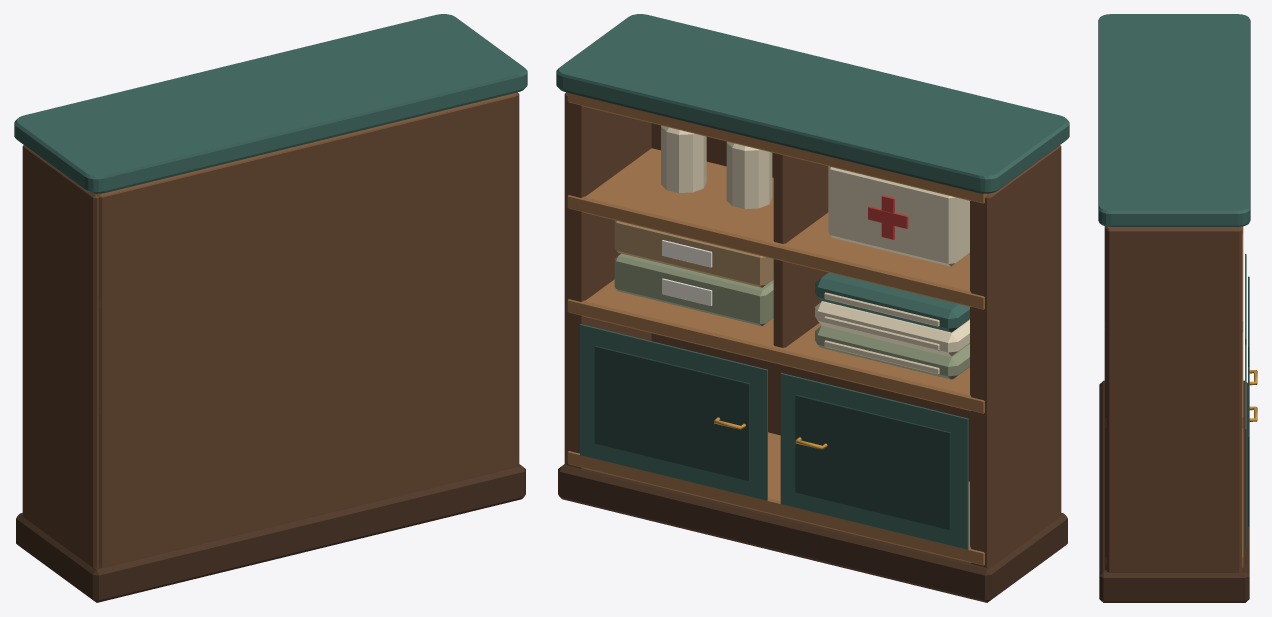
File: SU_07_Supply_Cabinet.fbx
3 renders of one model, left to right at view 1: azimuth 30°, elevation 25°; view 2: azimuth 150°, elevation 25°; view 3: azimuth 270°, elevation 25°, orthographic. The views are drawn at different scales.
Visible parts, largest first — view 1: SU_07_Supply_Cabinet; view 2: SU_07_Supply_Cabinet; view 3: SU_07_Supply_Cabinet.
Boxes of the visible parts, x1,y1,x2,y2 form: SU_07_Supply_Cabinet: (14, 14, 527, 602); SU_07_Supply_Cabinet: (556, 14, 1069, 602); SU_07_Supply_Cabinet: (1098, 14, 1257, 602).
Bounding box in the file's own units: 2.22 × 0.7537 × 2.06.
